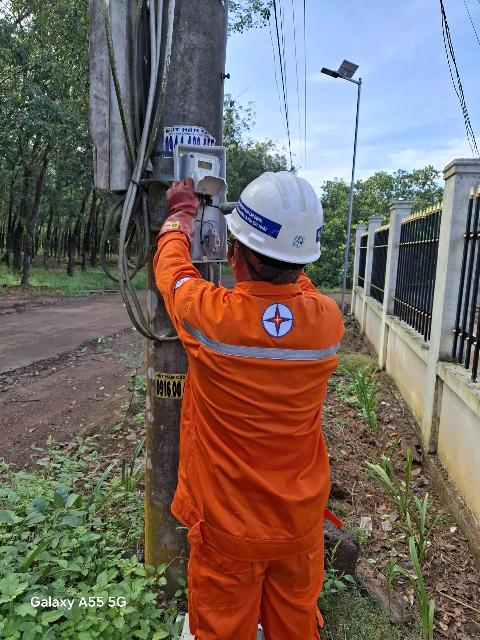gloves: (139, 174, 207, 264)
helmet: (222, 169, 327, 276)
